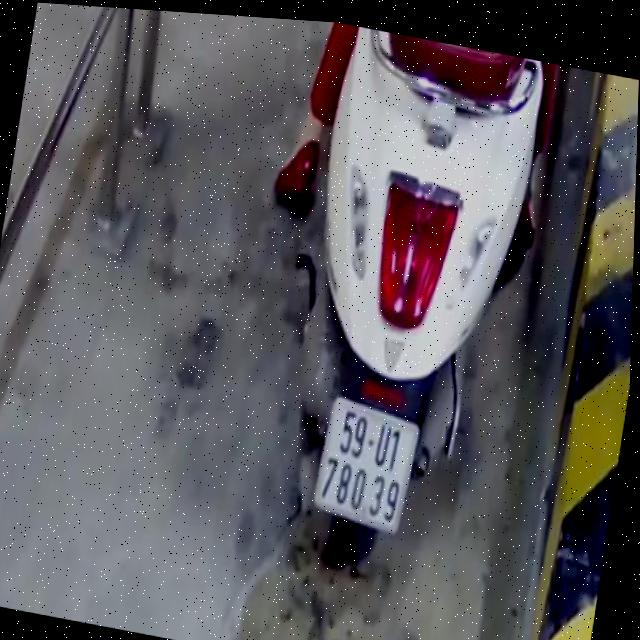motorcycle: (256, 18, 559, 619)
plate: (306, 390, 425, 537)
